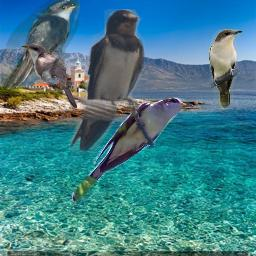Cuckoo: (72, 97, 193, 202), (1, 0, 80, 92), (20, 41, 77, 110), (209, 29, 243, 110)
Swallow: (69, 9, 145, 152)
